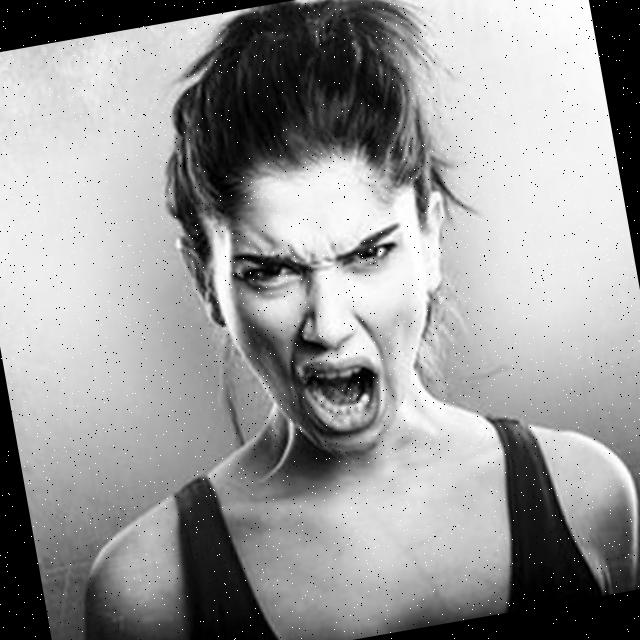Angry: (200, 153, 454, 470)
